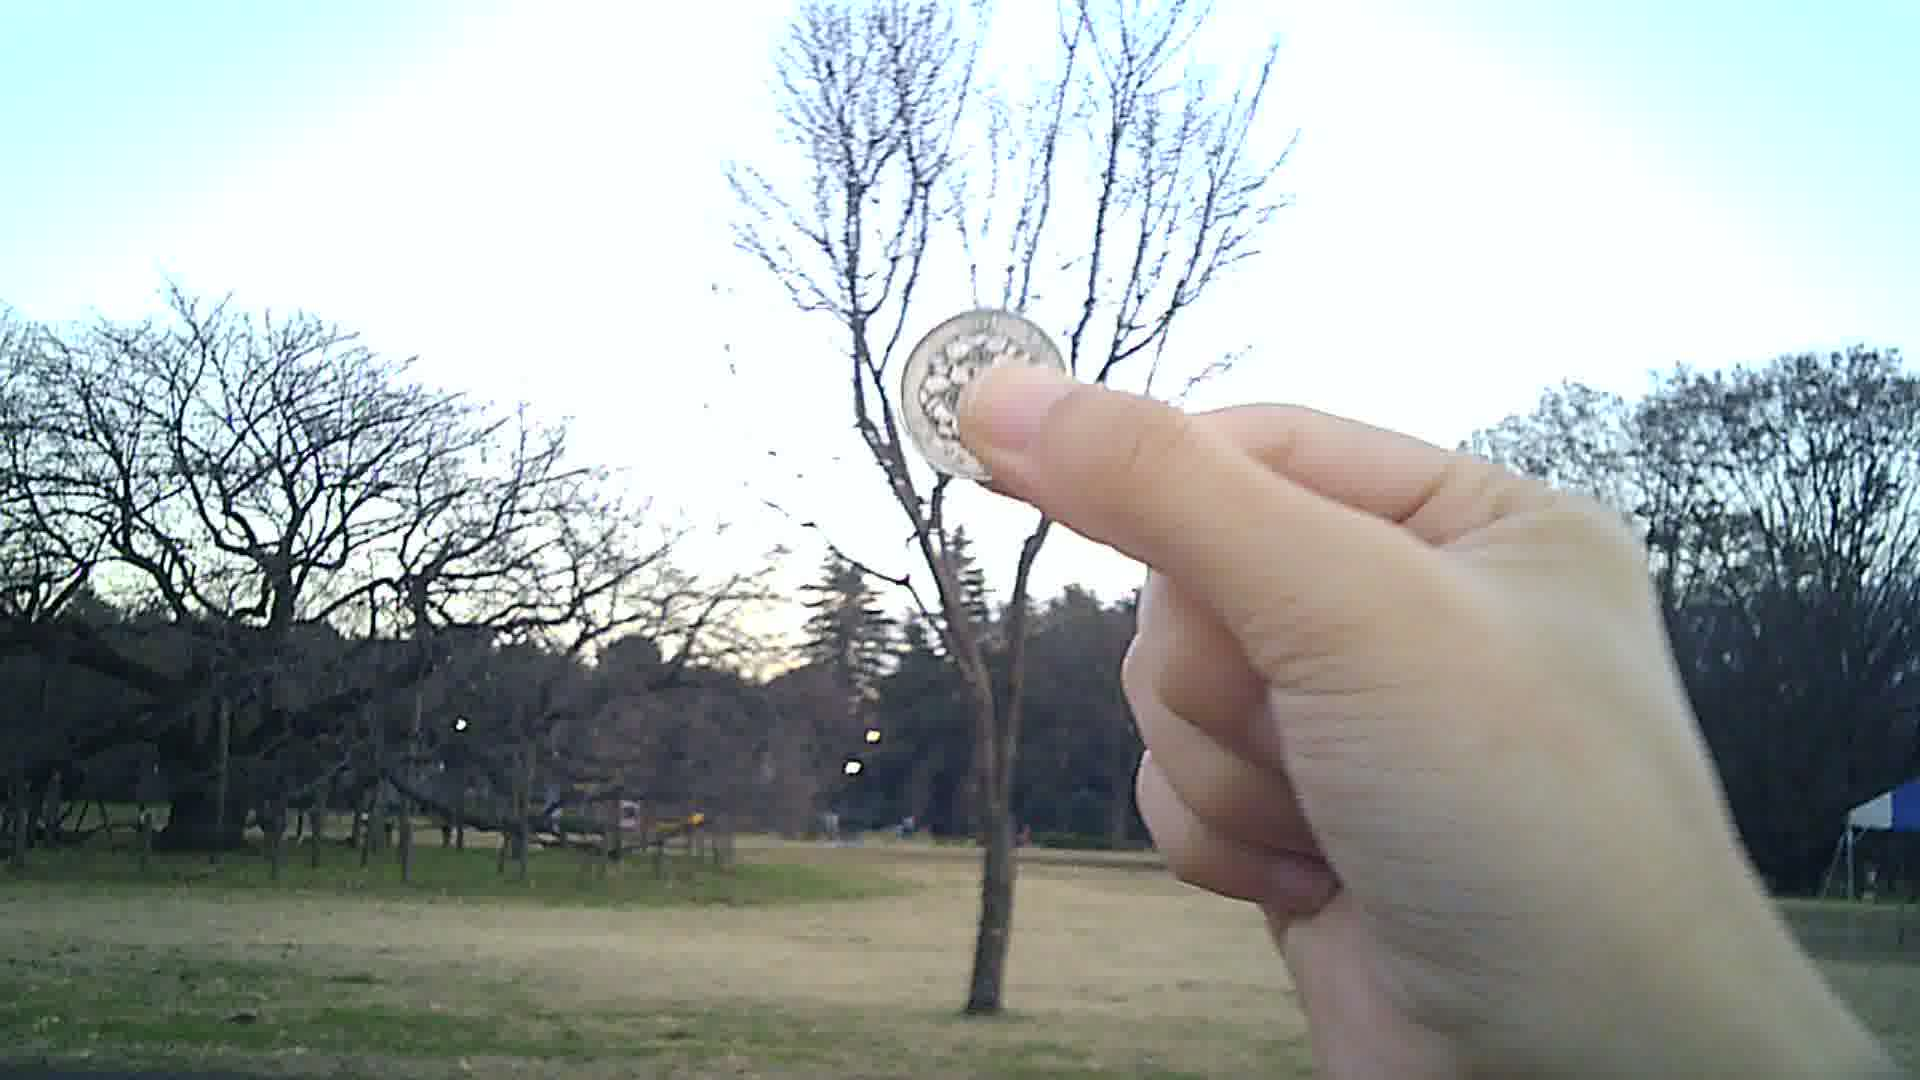100 Yen: (901, 306, 1069, 487)
